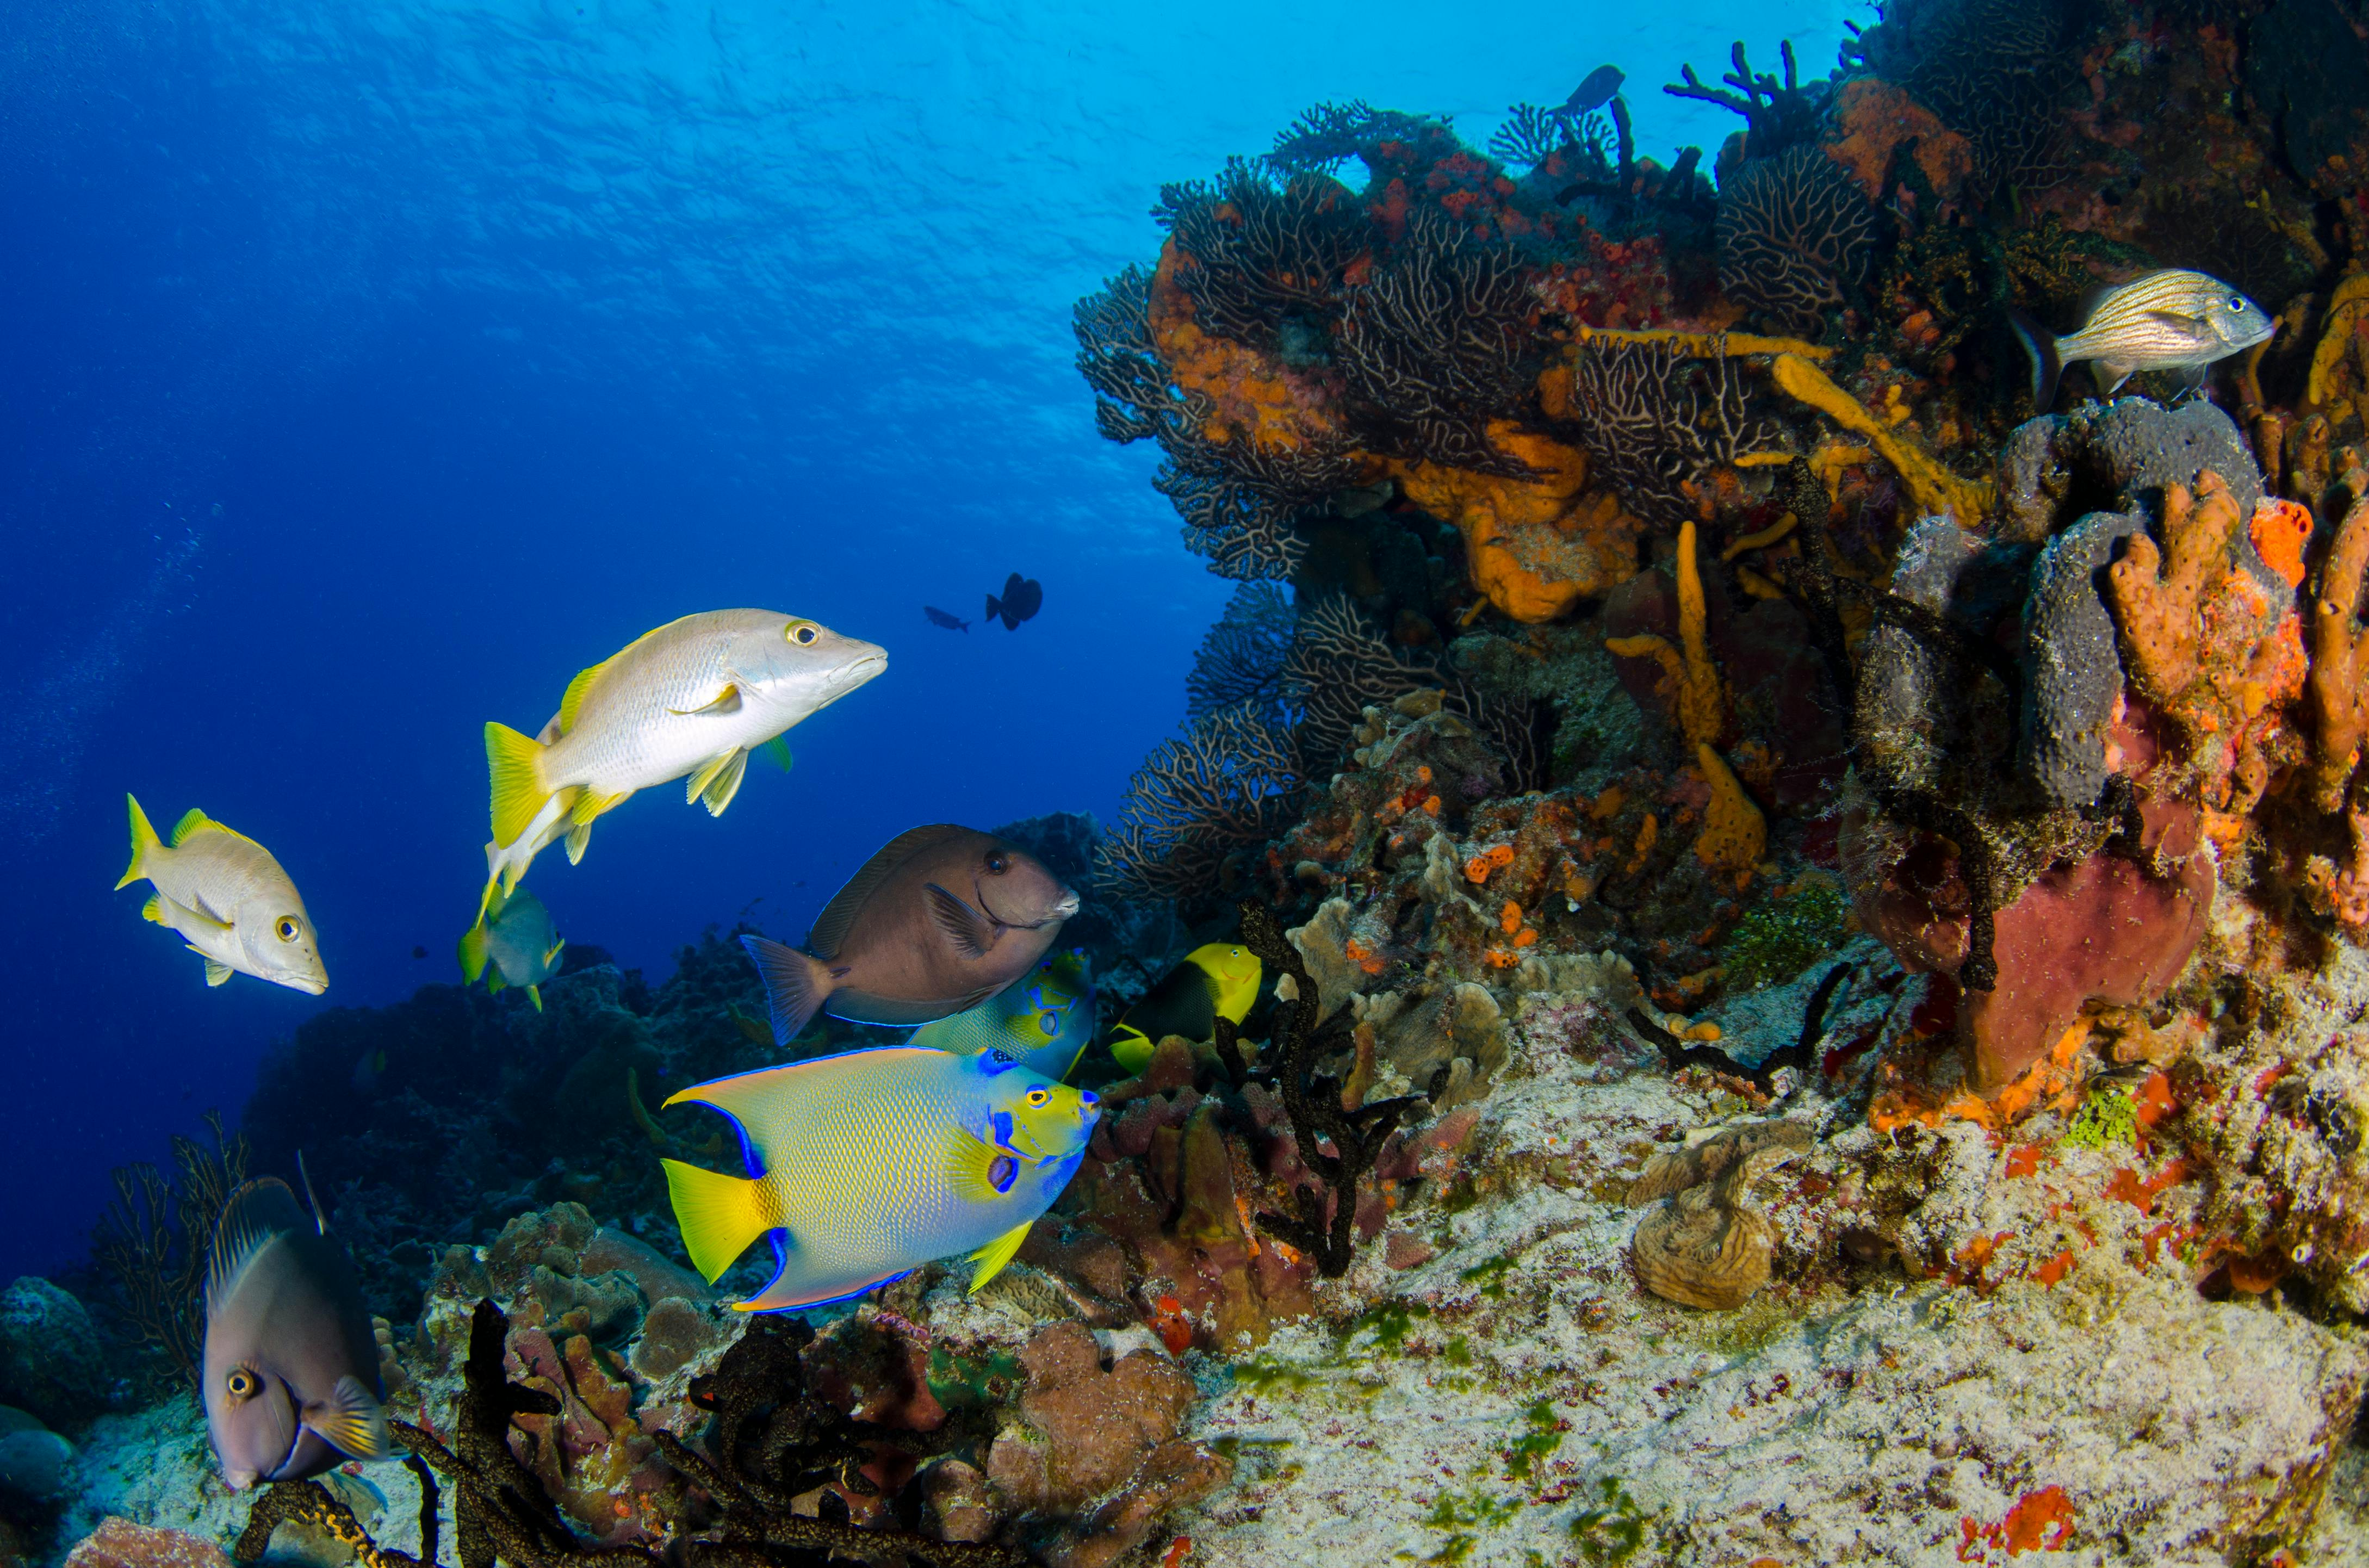fishLarge: (479, 609, 891, 849), (114, 793, 331, 1003), (1998, 264, 2275, 404), (479, 712, 633, 929), (919, 602, 973, 640)
fishRound: (658, 1055, 1106, 1319), (740, 817, 1087, 1048), (192, 1143, 408, 1496), (1097, 936, 1265, 1092), (903, 955, 1099, 1081), (455, 875, 569, 1004), (980, 563, 1050, 635)
